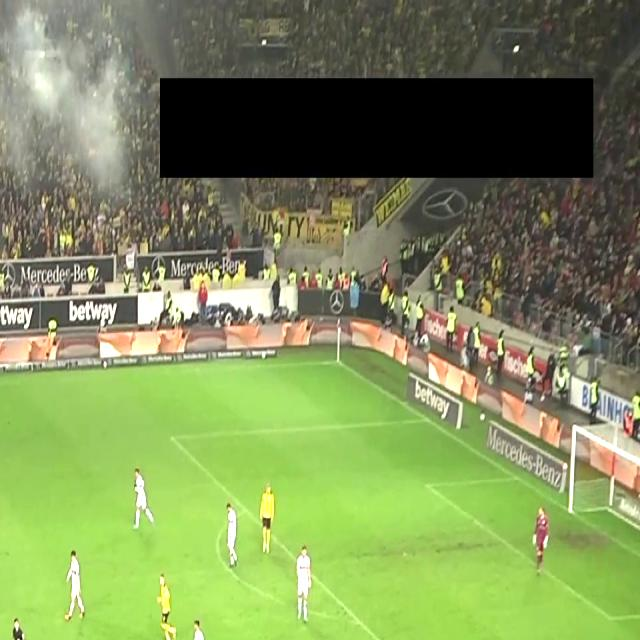goalkeeper: (525, 506, 557, 584)
referee: (8, 599, 32, 640)
soccer-player: (286, 544, 323, 630), (59, 549, 93, 629), (212, 498, 246, 577), (254, 482, 287, 562), (126, 466, 161, 537), (149, 569, 178, 640), (180, 617, 218, 640)
